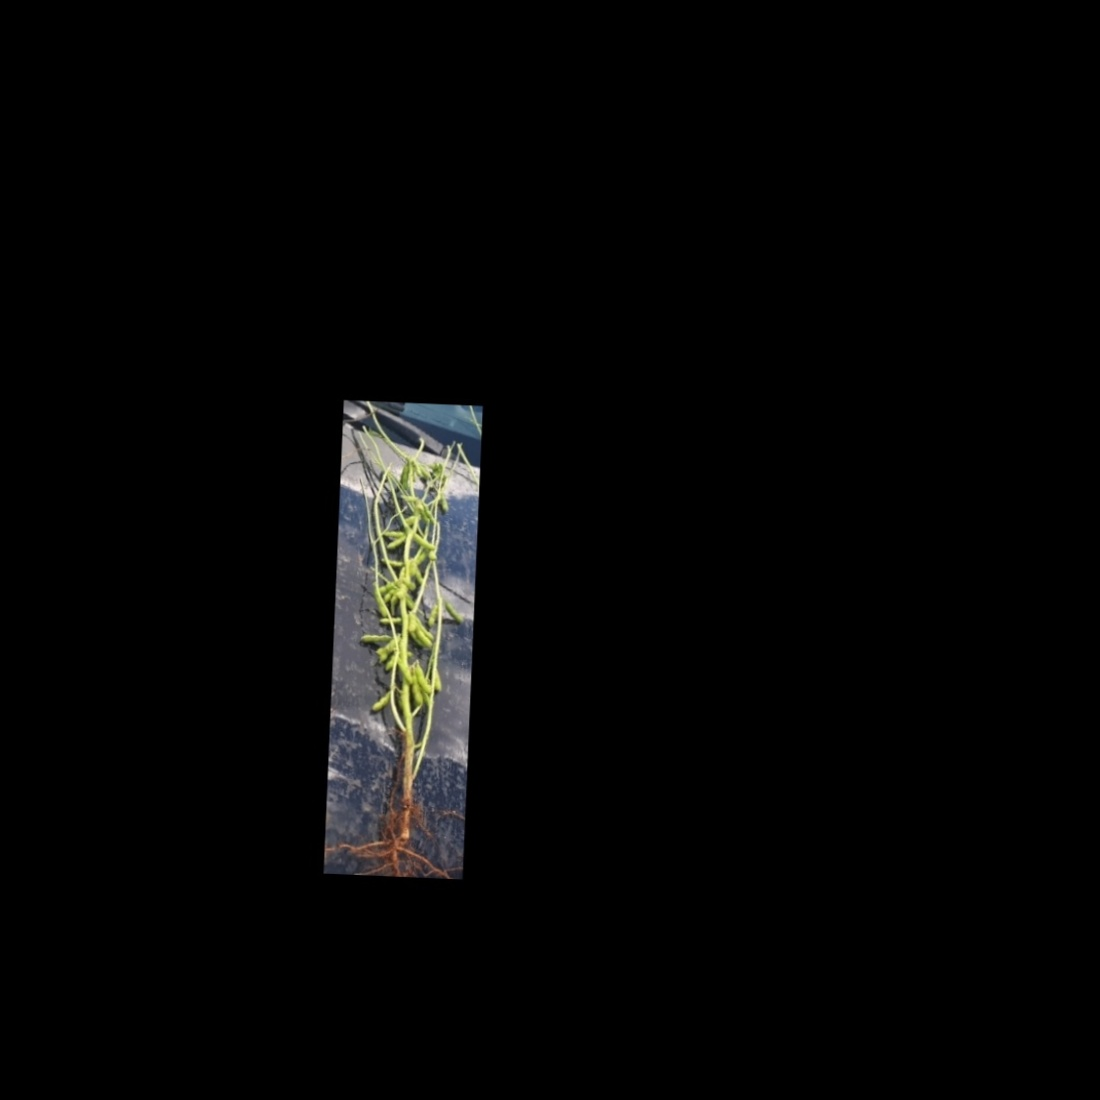pod: (407, 529, 439, 552), (411, 664, 434, 695), (383, 530, 410, 555), (369, 687, 392, 715), (356, 629, 393, 646), (407, 672, 425, 706), (441, 601, 466, 625), (398, 491, 421, 506), (437, 490, 450, 514)
soy: (336, 437, 475, 850)
